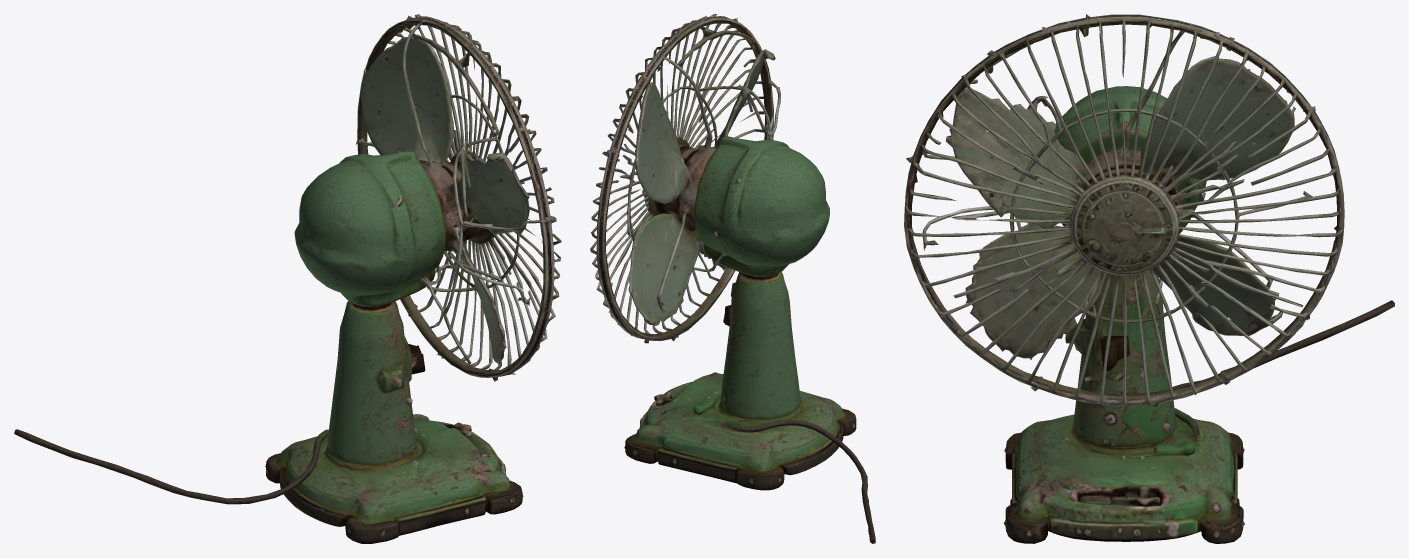
The model's file is scene-electric-fan-v03.glb.
3 views of the same model, side by side, from view 1: azimuth 30°, elevation 25°; view 2: azimuth 150°, elevation 25°; view 3: azimuth 270°, elevation 25° (orthographic). The views are drawn at different scales.
Visible parts, largest first — view 1: tripo_node_e1c31df7-27ed-4e3a-9c18-feae60e5ba87; view 2: tripo_node_e1c31df7-27ed-4e3a-9c18-feae60e5ba87; view 3: tripo_node_e1c31df7-27ed-4e3a-9c18-feae60e5ba87.
Part boxes in pixels (x1,y1,x2,y2): tripo_node_e1c31df7-27ed-4e3a-9c18-feae60e5ba87: (14,14,561,543); tripo_node_e1c31df7-27ed-4e3a-9c18-feae60e5ba87: (590,14,875,543); tripo_node_e1c31df7-27ed-4e3a-9c18-feae60e5ba87: (904,14,1394,543).
Bounding box in the file's own units: 0.4233 × 0.5 × 0.4293.
1 material, 1 textured.
